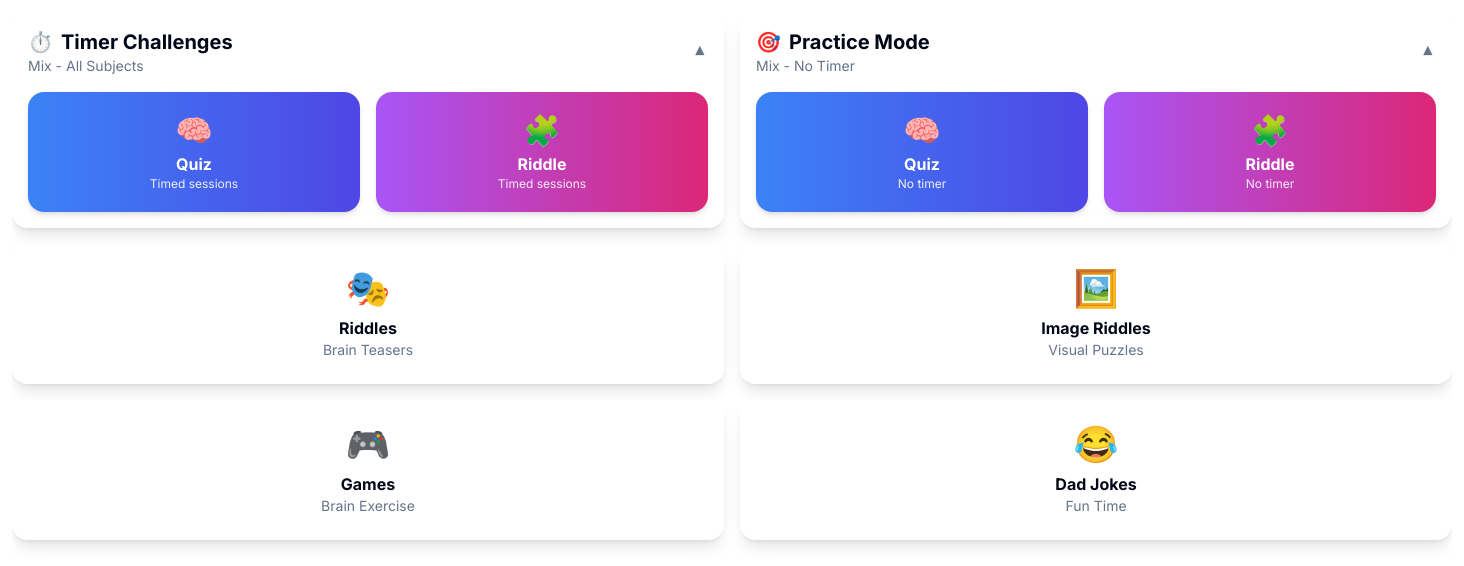
Test: ModeCards — accordion behavior › collapses the other card when one header is clicked
The image size is (1464, 566).
Click the button with aria-label "Timer Challenges section" at (147, 42), box left=12, top=12, right=724, bottom=92
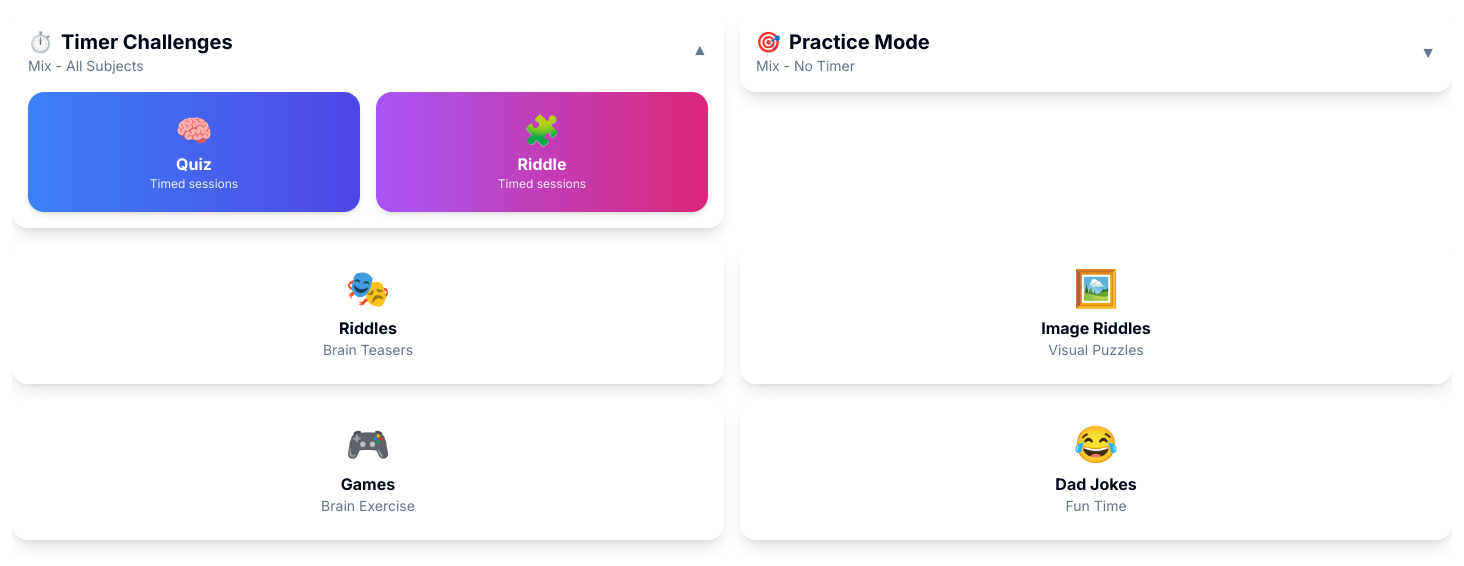
Expected: the button with aria-label "Practice Mode section" is collapsed, left=740, top=12, right=1452, bottom=92
